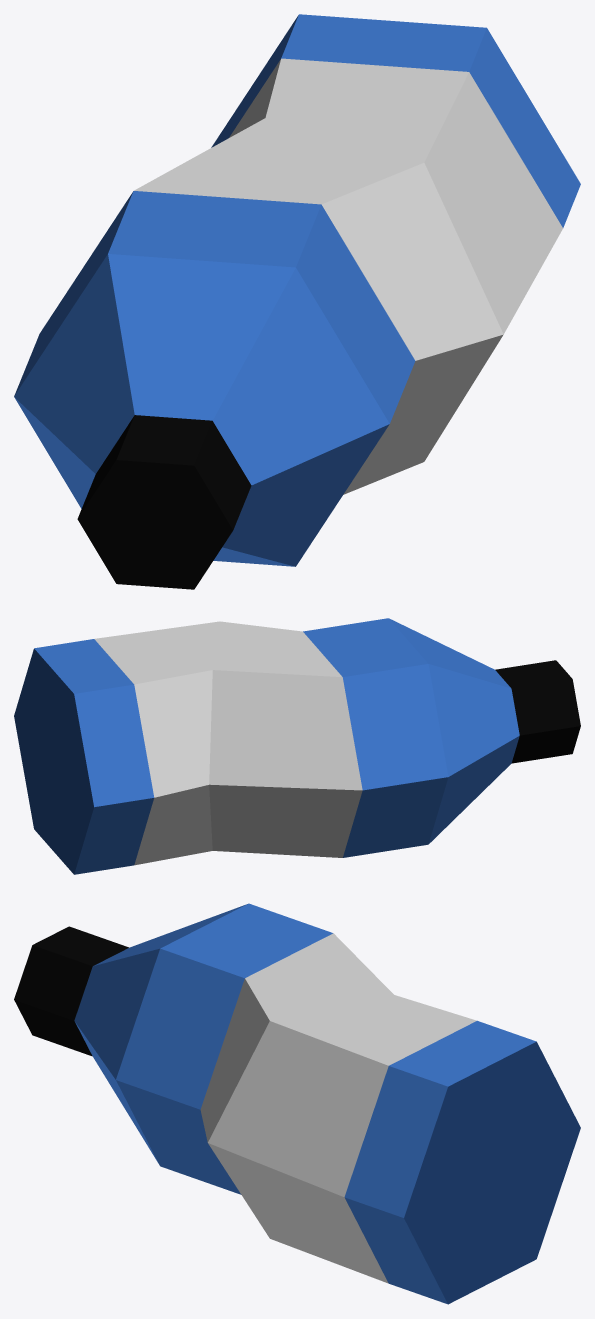
Rendered from M_PlasticBottle.fbx.
The picture shows the model from 3 angles, top to bottom: view 1: azimuth 30°, elevation 25°; view 2: azimuth 150°, elevation 25°; view 3: azimuth 270°, elevation 25°; orthographic projection. The views are drawn at different scales.
Parts seen in each view (by area): view 1: PlasticBottle; view 2: PlasticBottle; view 3: PlasticBottle.
Boxes of the visible parts, x1=… form: PlasticBottle: x1=14, y1=14, x2=580, y2=589; PlasticBottle: x1=14, y1=618, x2=580, y2=874; PlasticBottle: x1=14, y1=903, x2=580, y2=1304.
Bounding box in the file's own units: 248 × 98.39 × 232.
